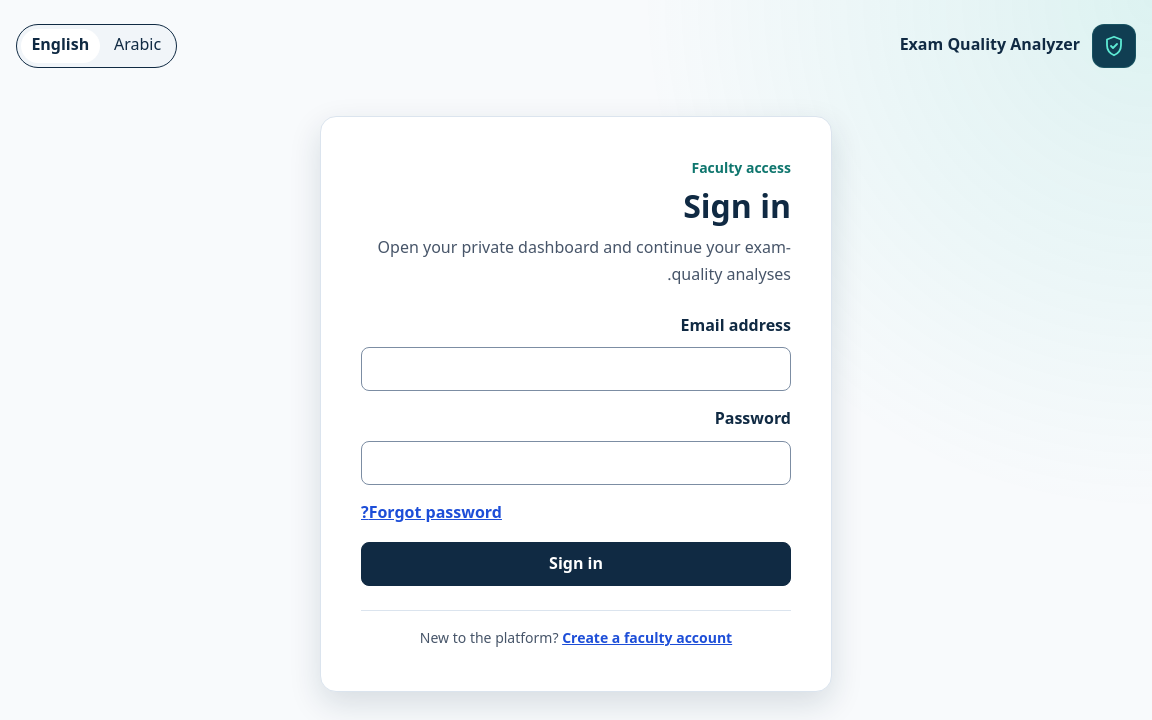
Test: authentication routes › signs in and opens the private dashboard
In the field labelled "Email address": (576, 369) [361,347,791,391], type "faculty@university.edu"
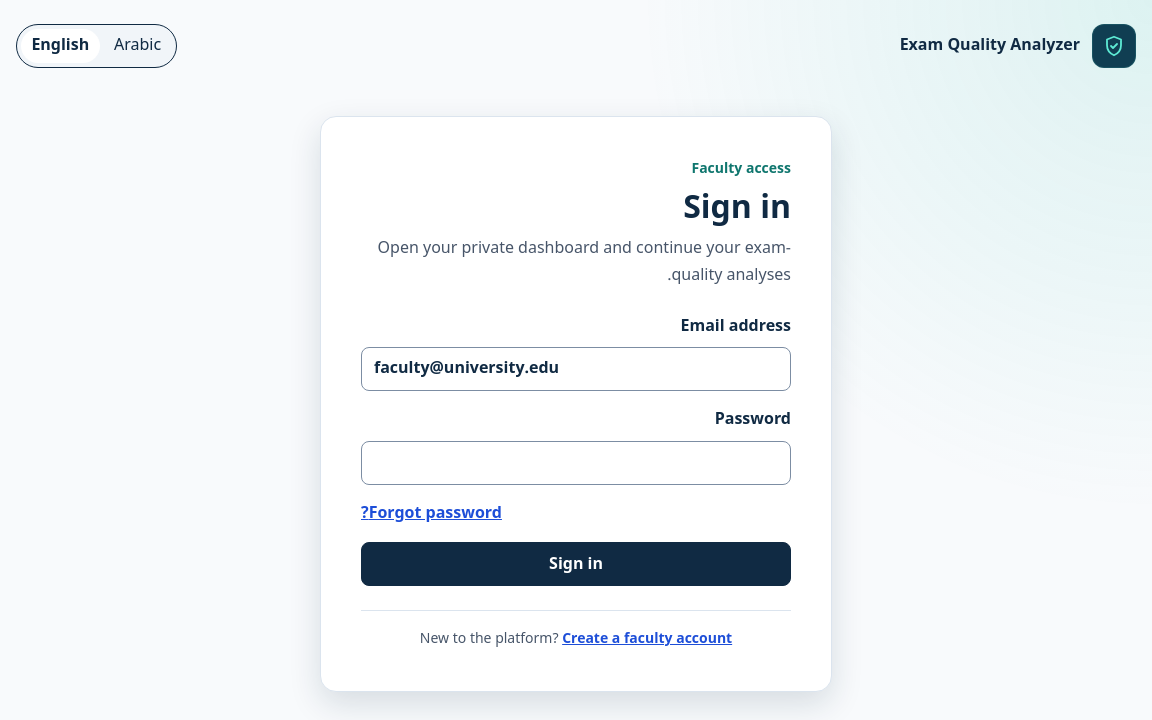
In the password field labelled "Password": (576, 463) [361,441,791,485], type "StrongPassword2026"
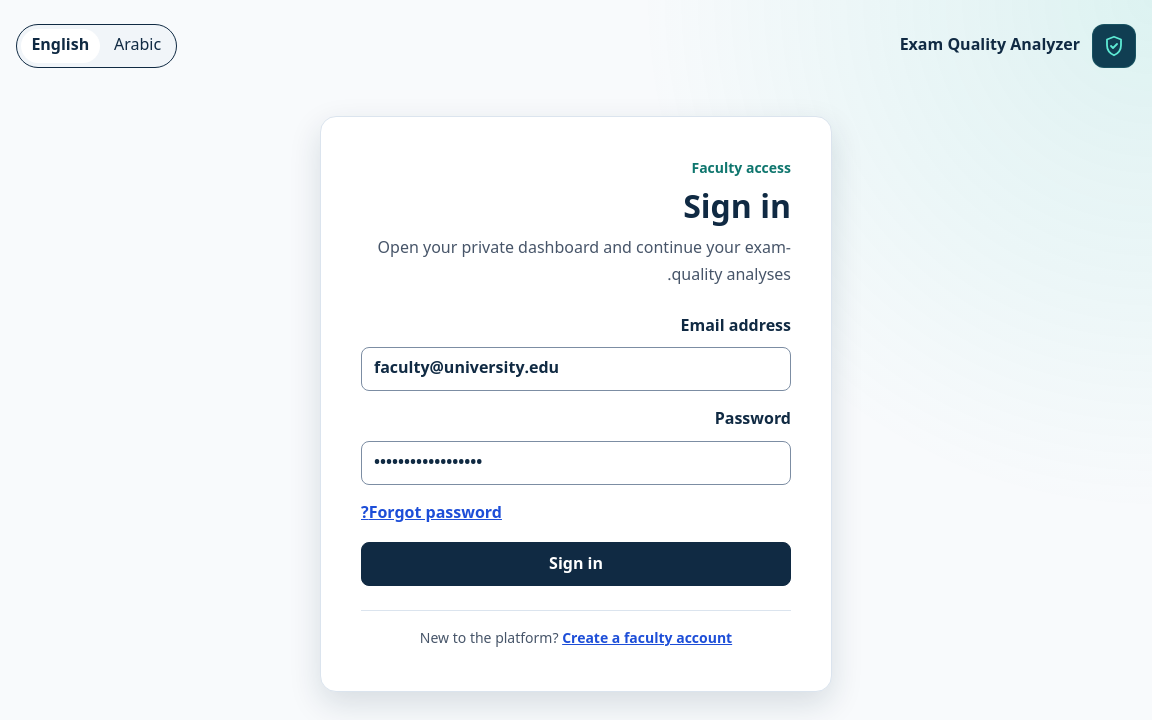
Click the button "Sign in": (576, 564) [361,542,791,586]
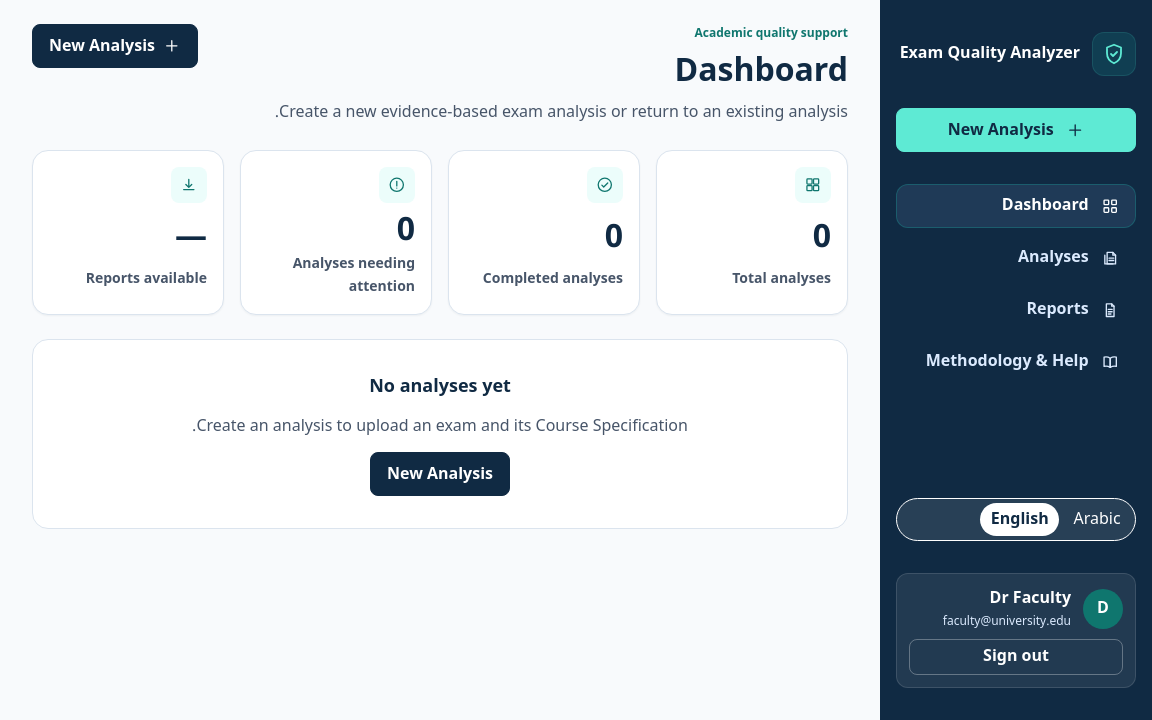
Expected: the heading "Dashboard" is shown, [674,37,848,105]
Expected: the text "faculty@university.edu" is shown, [943,609,1071,634]
